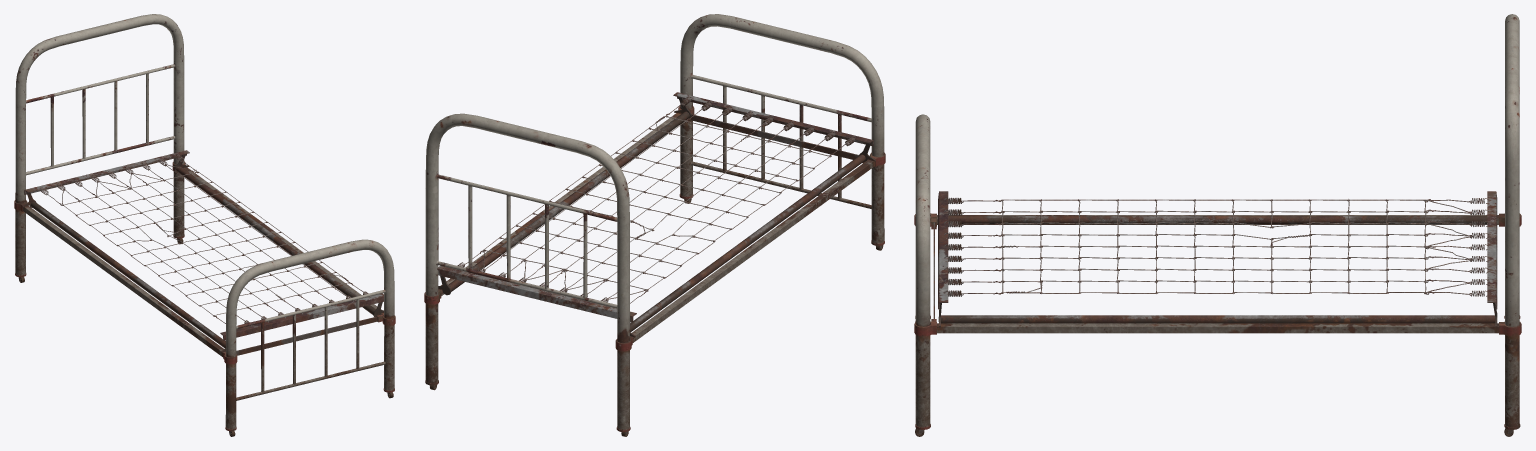
Rendered from old_bed_frame.glb.
3 renders of one model, left to right at view 1: azimuth 30°, elevation 25°; view 2: azimuth 150°, elevation 25°; view 3: azimuth 270°, elevation 25°, orthographic. The views are drawn at different scales.
Parts seen in each view (by area): view 1: old_bed_frame; view 2: old_bed_frame; view 3: old_bed_frame.
Part boxes in pixels (x1,y1,x2,y2): old_bed_frame: (14, 14, 395, 436); old_bed_frame: (424, 14, 885, 436); old_bed_frame: (914, 14, 1521, 436).
Bounding box in the file's own units: 0.9047 × 1.2 × 2.
Materials: 1 (1 with a texture image).
